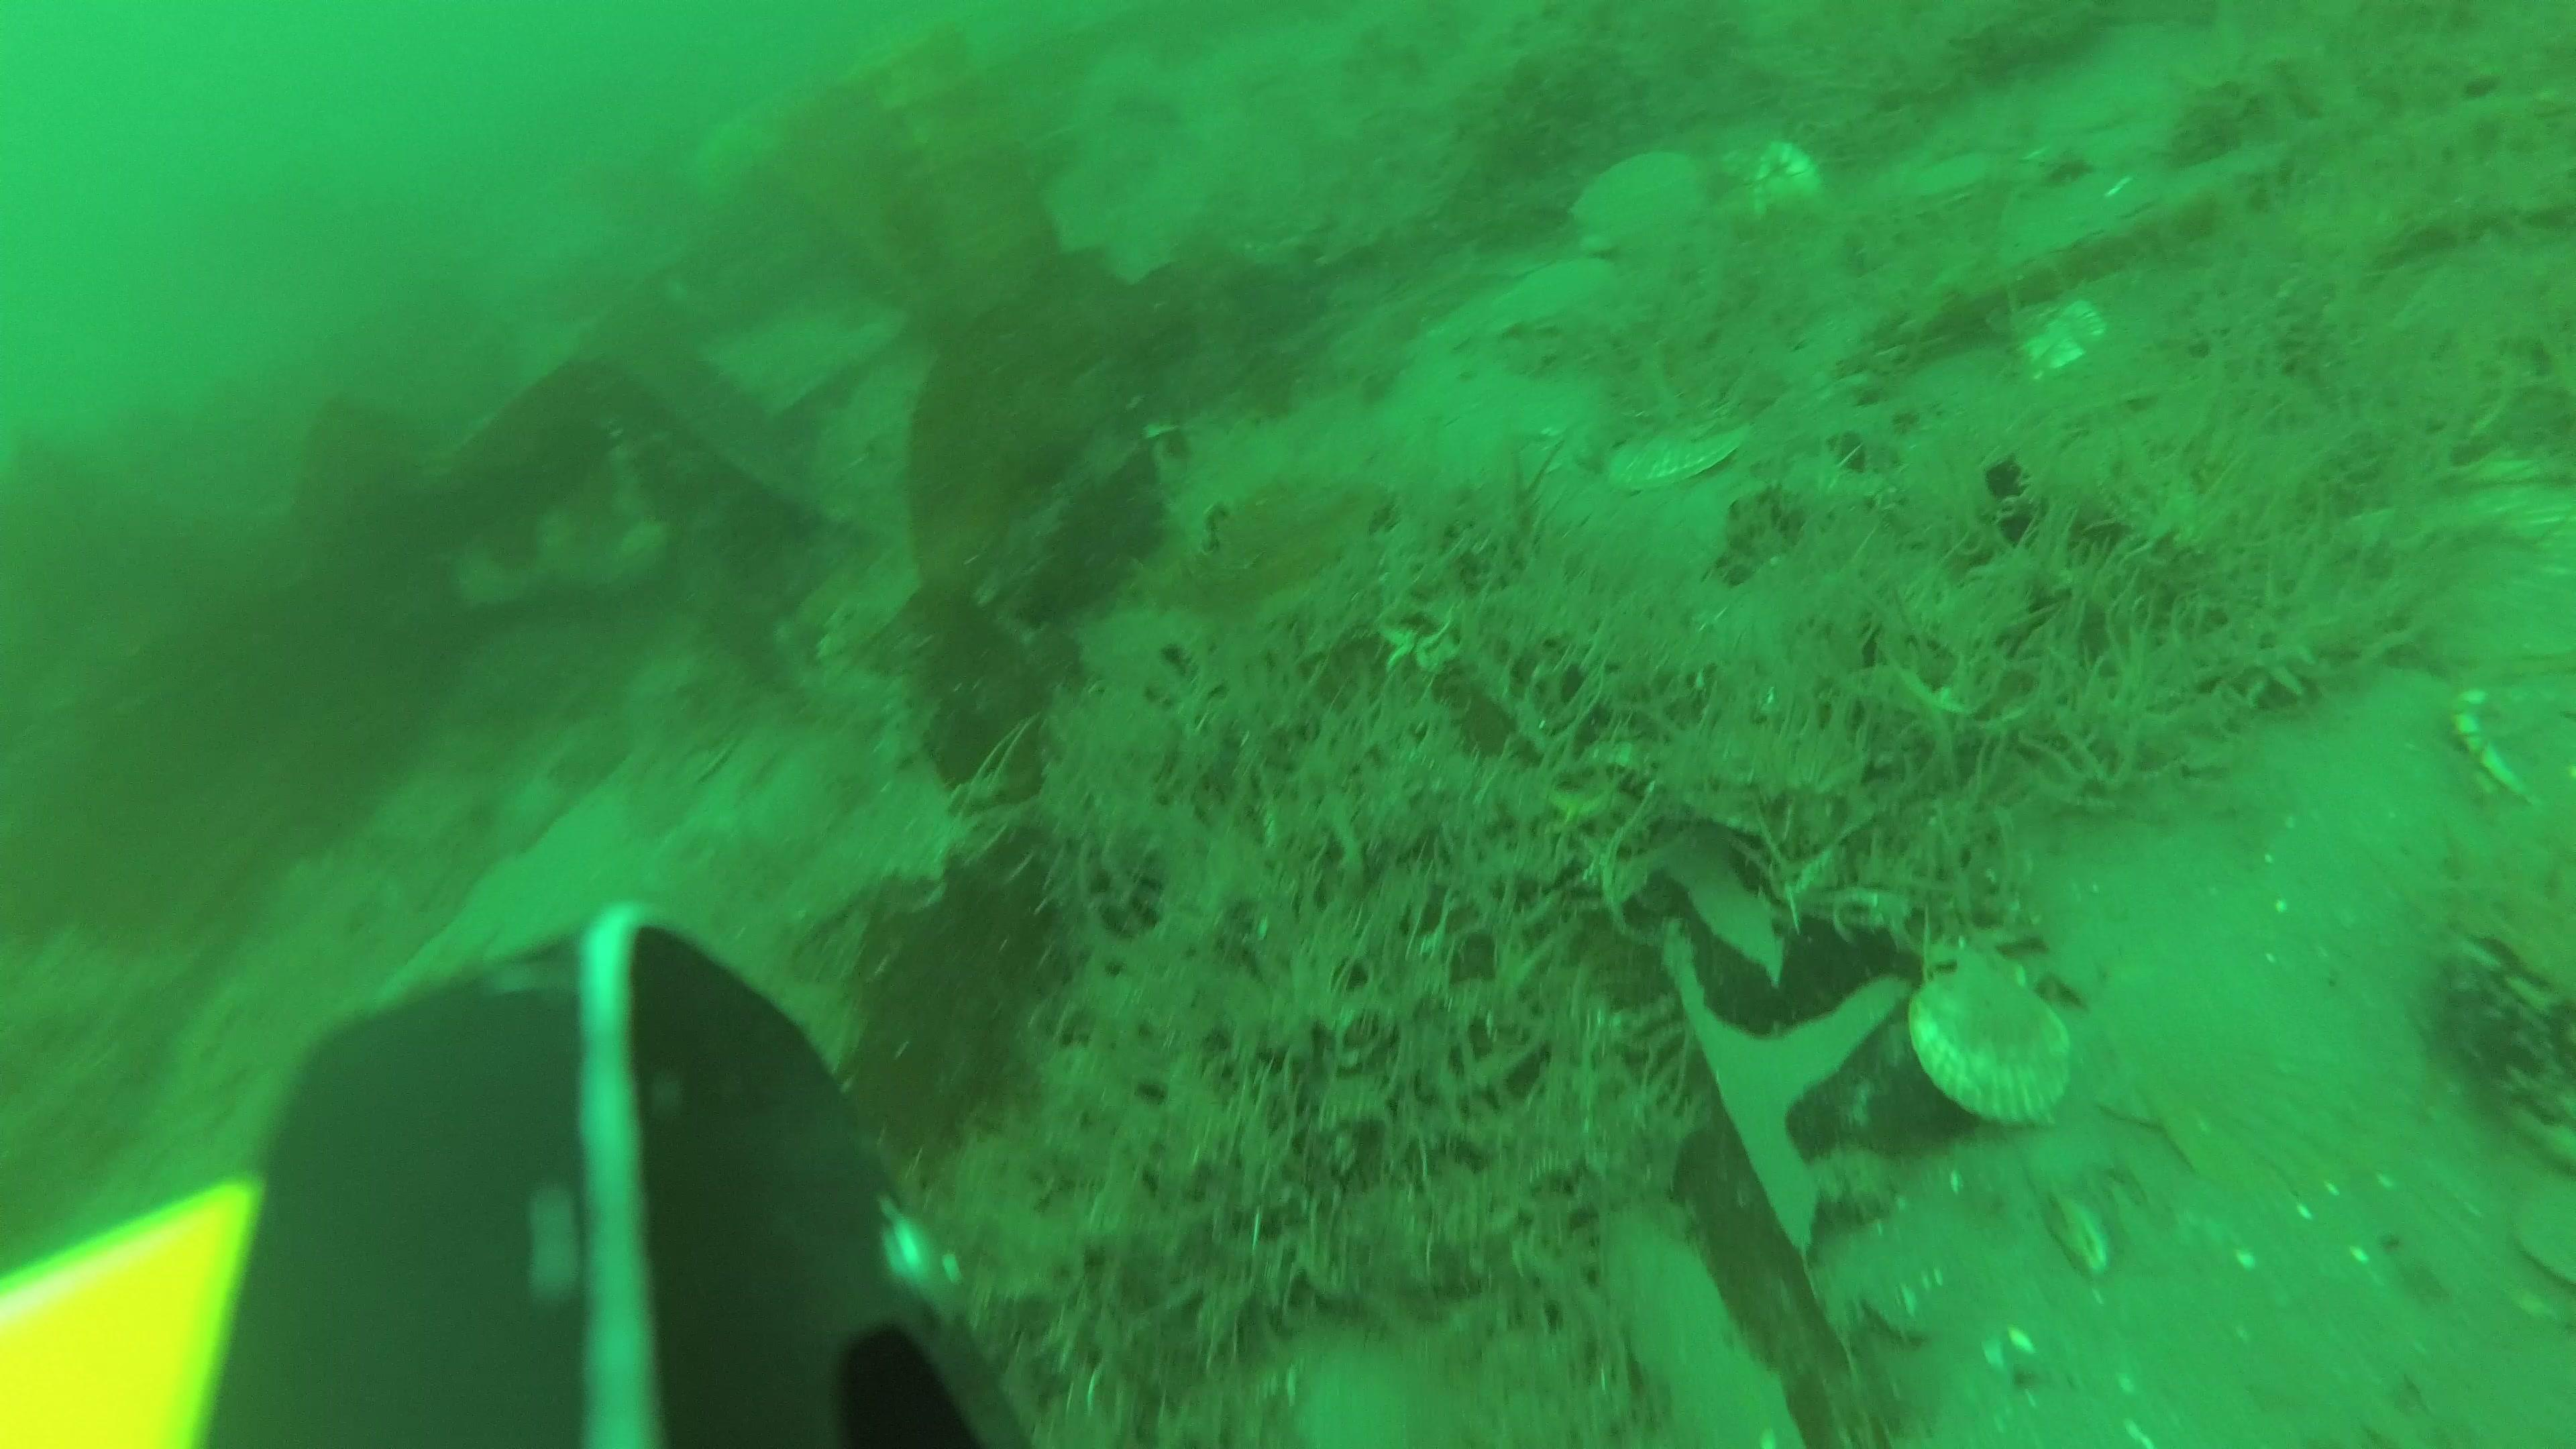scallop: (1900, 952, 2077, 1122), (1573, 152, 1736, 276), (1605, 414, 1748, 487), (1755, 134, 1847, 225), (2012, 290, 2098, 386), (1495, 264, 1605, 336), (1905, 150, 1994, 216)
